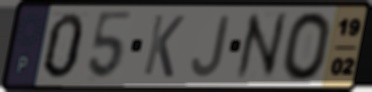0: (42, 11, 87, 81)
5: (86, 9, 137, 83)
J: (189, 13, 233, 79)
K: (140, 12, 187, 80)
N: (234, 10, 289, 83)
O: (280, 9, 334, 84)
